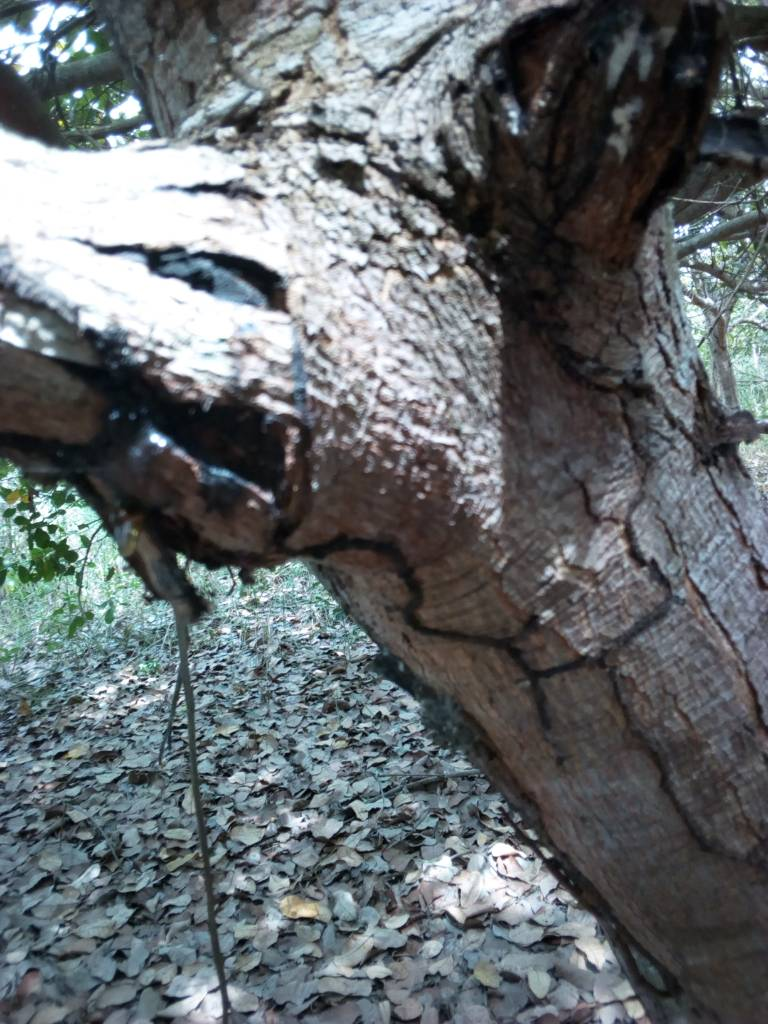Termites: (260, 260, 696, 722)
